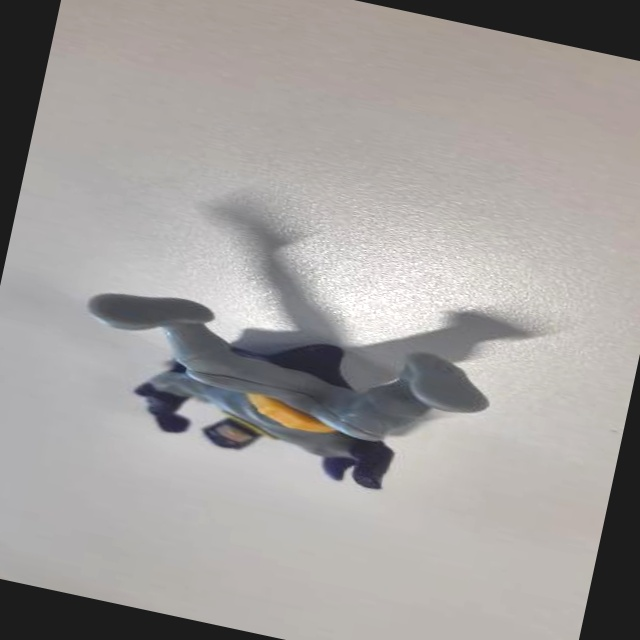Batman: (64, 280, 501, 515)
